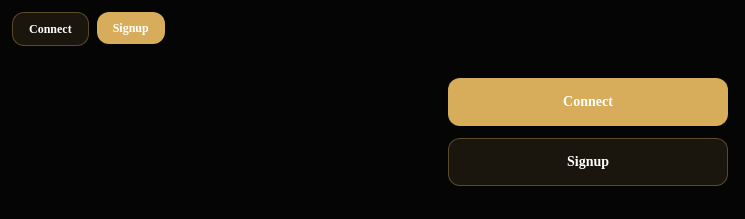
Scenario: landing inline wallet actions › renders wallet errors inline and prevents duplicate pending requests
Click the 1st button "Connect": (50, 29) [12, 12, 89, 46]
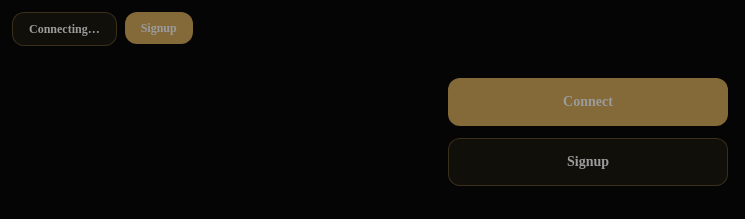
Click the button "Connecting…": (64, 29) [12, 12, 117, 46]
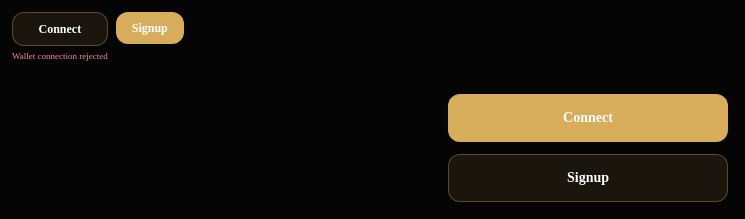
Expected: the number of buttons "Connect" is 2, [12, 12, 108, 46]; [448, 94, 728, 142]
Expected: the text "Wallet connection rejected" is shown, [12, 50, 108, 62]
